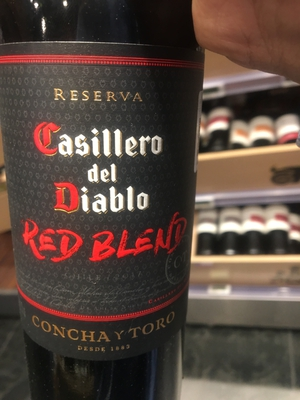casillero del diablo red blend: (4, 13, 211, 400)
